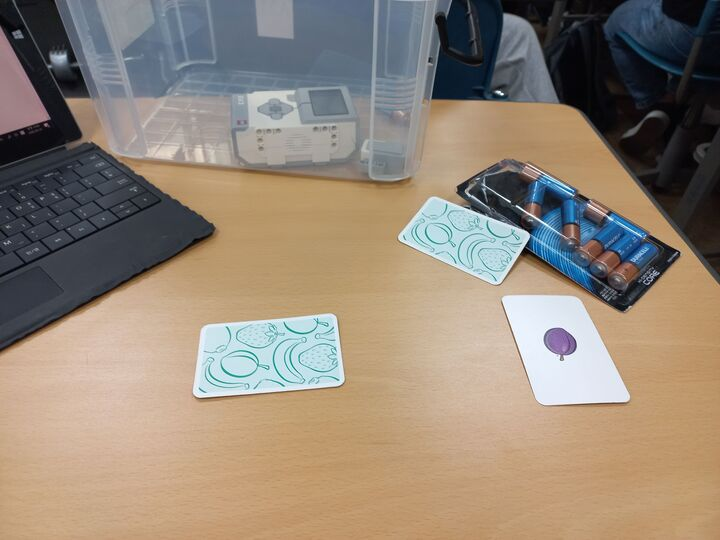plum1: (500, 293, 633, 406)
